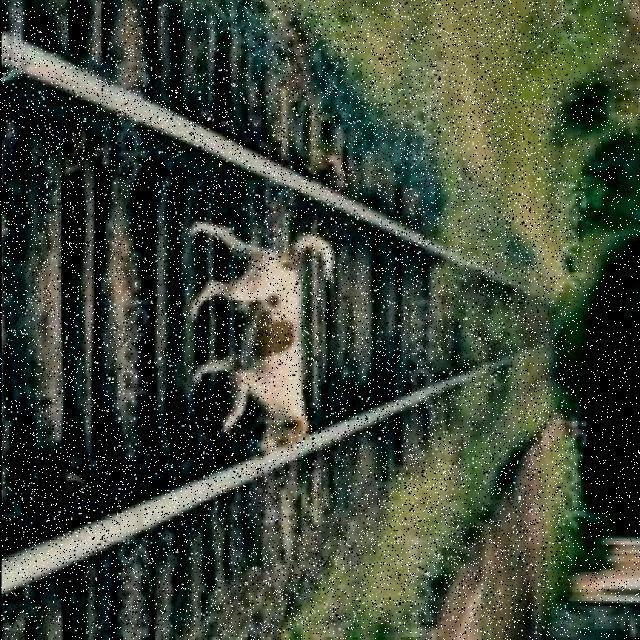danger: (186, 208, 309, 455)
rail: (0, 1, 566, 633)
